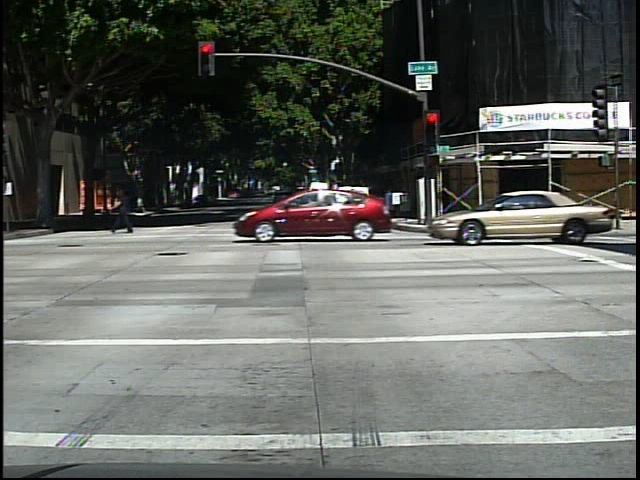person: (107, 184, 139, 236)
